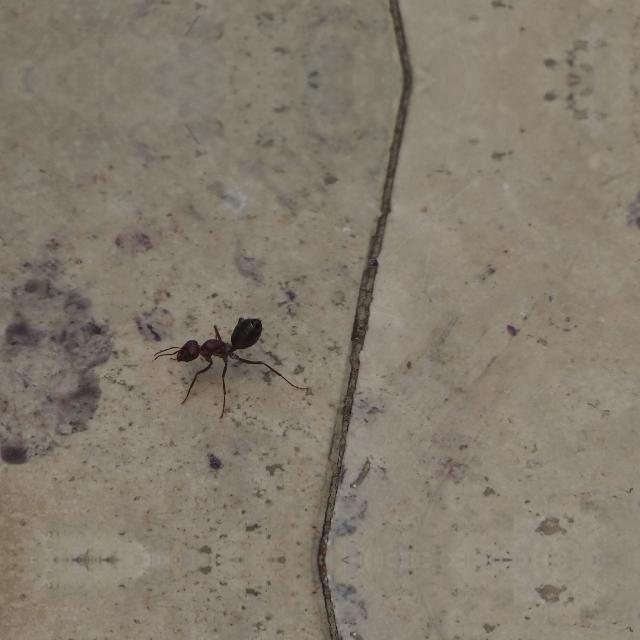Cataglyphis: (160, 312, 274, 380)
